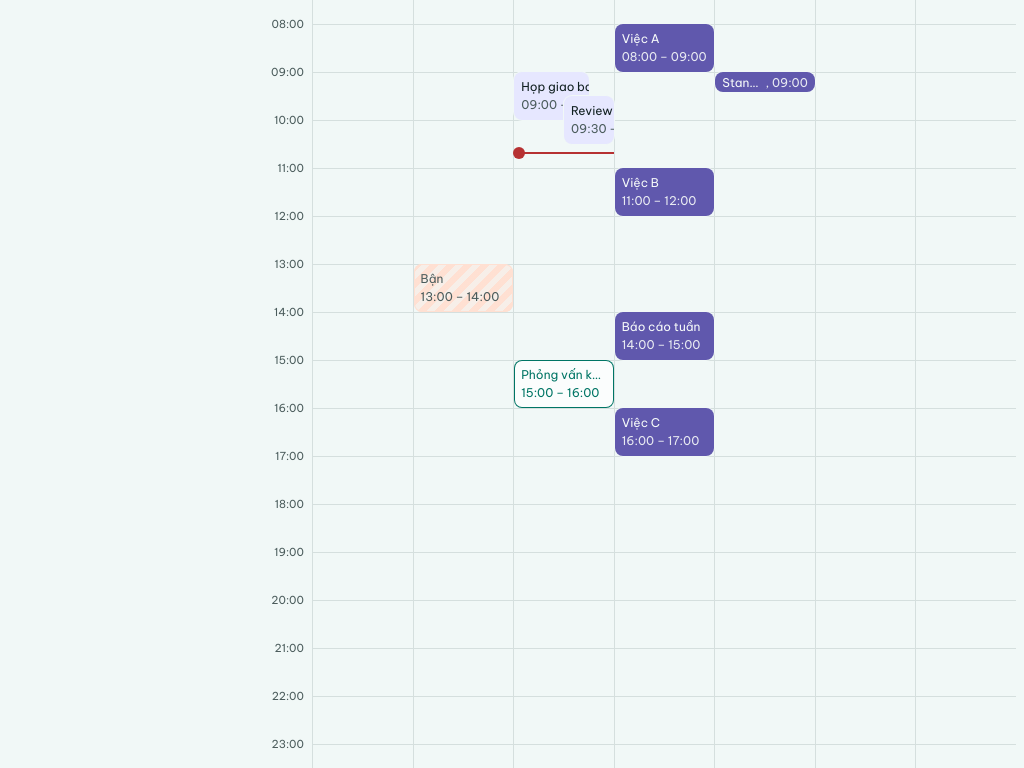
Test case: dragging › does not drag what the person may not edit, and a small wobble is still a click
(page scrolled)
Press the mouse on the button "Phỏng vấn kế toán viên 15:00 – 16:00" at (564, 384), box x1=514 y1=360 x2=614 y2=408
Click the button "Báo cáo tuần 14:00 – 15:00" at (664, 336), box x1=615 y1=312 x2=714 y2=360
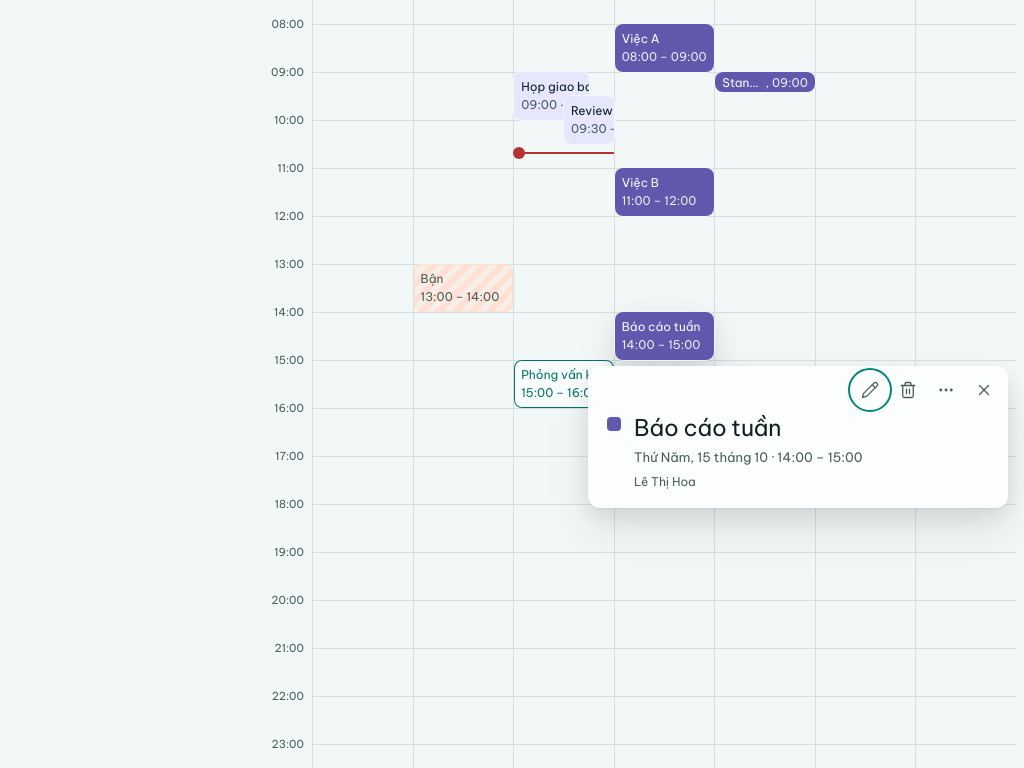
Result: the dialog "Báo cáo tuần" is shown at x1=588 y1=366 x2=1008 y2=508
